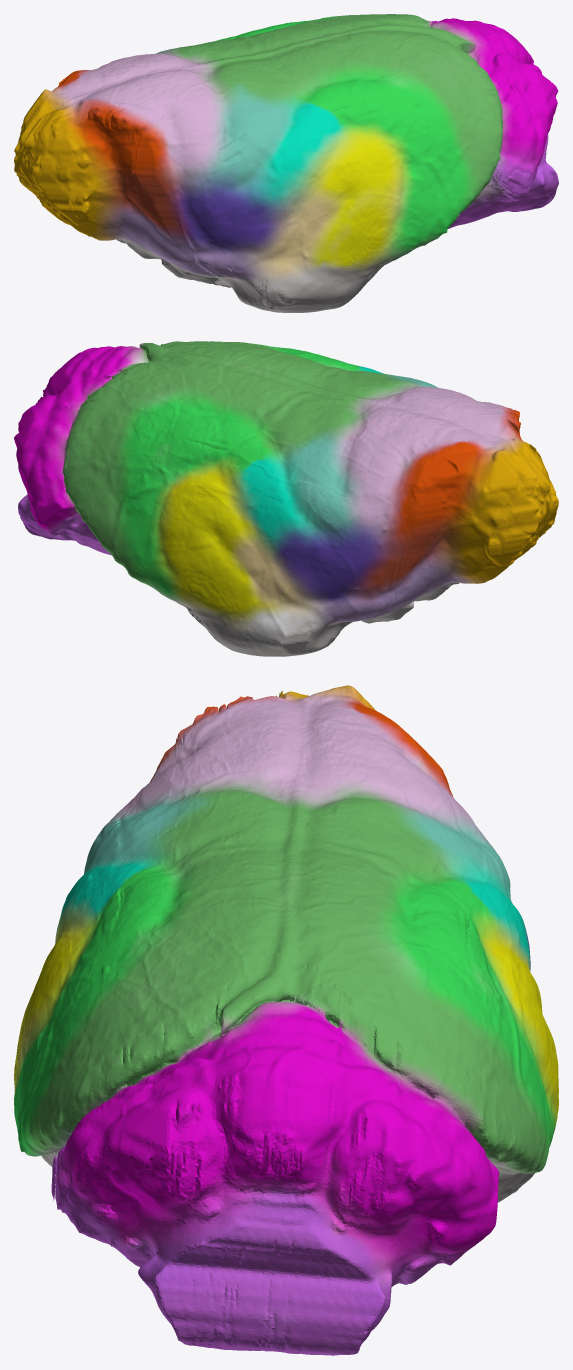
Rendered from mustela-endocast.glb.
3 views of the same model, one above another, from view 1: azimuth 30°, elevation 25°; view 2: azimuth 150°, elevation 25°; view 3: azimuth 270°, elevation 25° (orthographic). The views are drawn at different scales.
Visible parts, largest first — view 1: geometry_0; view 2: geometry_0; view 3: geometry_0.
Boxes of the visible parts, x1=… form: geometry_0: x1=14, y1=14, x2=558, y2=312; geometry_0: x1=14, y1=341, x2=558, y2=656; geometry_0: x1=14, y1=685, x2=558, y2=1355.
Bounding box in the file's own units: 21.44 × 9.51 × 12.51.
